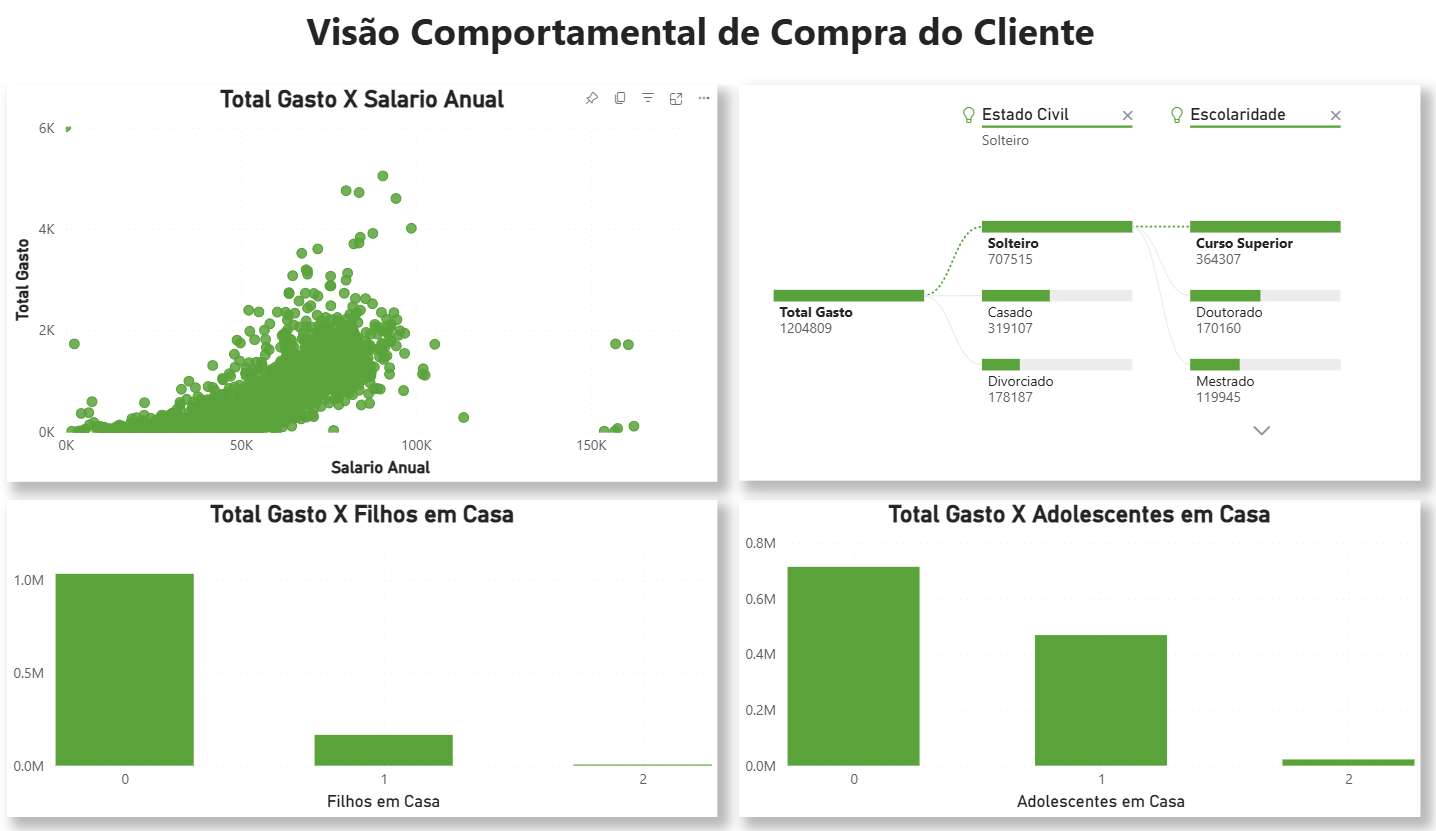

The dashboard page shown, as its layout file describes it:
{"tool":"powerbi","page":{"name":"Visão Comportamental","canvas":[1280,720],"ordinal":1},"visuals":[{"type":"scatterChart","title":"Total Gasto X Salario Anual","fields":{"X":["DadosMarketing.Salario Anual"],"Y":["DadosMarketing.Total Gasto"]},"box":[44.6,74.3,614.1,343.5],"z":0},{"type":"textbox","box":[44.6,0,1198.5,74.3],"z":1000},{"type":"columnChart","title":"Total Gasto X Filhos em Casa","fields":{"Category":["DadosMarketing.Filhos em Casa"],"Y":["DadosMarketing.Total Gasto"]},"box":[44.6,432.7,614.1,273.6],"z":2000},{"type":"columnChart","title":"Total Gasto X Adolescentes em Casa","fields":{"Category":["DadosMarketing.Adolescentes em Casa"],"Y":["DadosMarketing.Total Gasto"]},"box":[678.1,432.7,588.8,273.6],"z":3000},{"type":"decompositionTreeVisual","fields":{"Analyze":["DadosMarketing.Total Gasto"],"ExplainBy":["DadosMarketing.Estado Civil","DadosMarketing.Escolaridade"]},"box":[678.1,74.3,588.8,342],"z":4000}]}

Visuals, with their boxes in screenshot pixels (x1, y1, x2, y2), scaled from the page's 1280x720 canvas onto the 1436x831 screenshot:
"Total Gasto X Salario Anual" scatterChart: l=50, t=86, r=739, b=482
textbox: l=50, t=0, r=1395, b=86
"Total Gasto X Filhos em Casa" columnChart: l=50, t=499, r=739, b=815
"Total Gasto X Adolescentes em Casa" columnChart: l=761, t=499, r=1421, b=815
decompositionTreeVisual - DadosMarketing.Total Gasto x DadosMarketing.Estado Civil: l=761, t=86, r=1421, b=480
